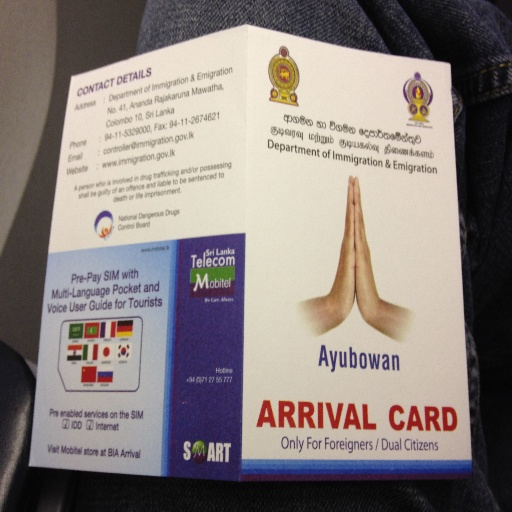hand: (301, 193, 409, 357), (352, 175, 383, 322)
